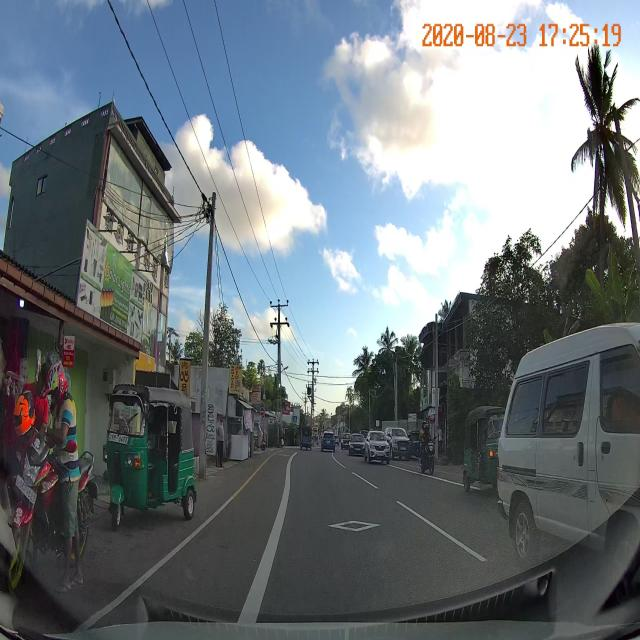Romb: (322, 518, 384, 534)
